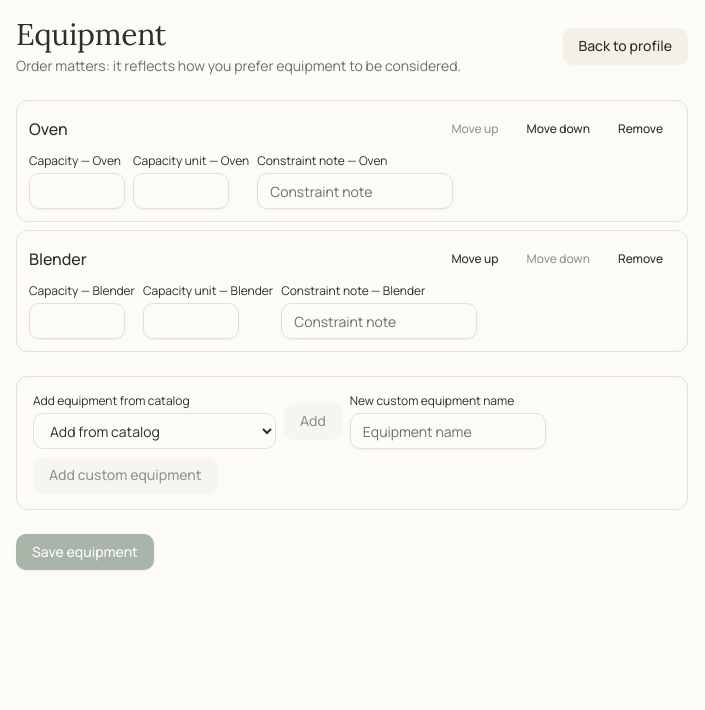
ProfileEquipmentPage › rejects a negative capacity locally and never submits it to the backend
Type "-5" into the number field with test id "profile-equipment-capacity-eq-oven" at (77, 191), box left=29, top=173, right=125, bottom=209
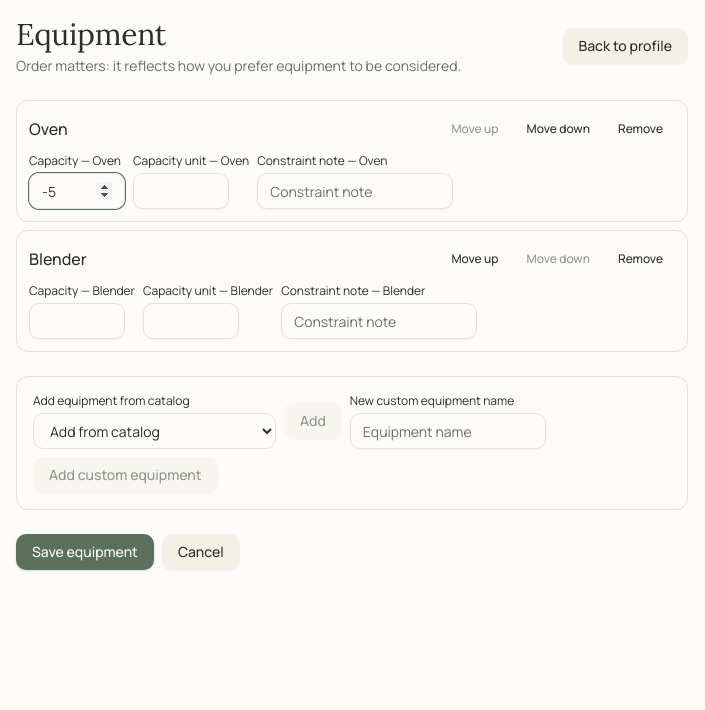
Type "L" into the field with test id "profile-equipment-capacity-unit-eq-oven" at (181, 191), box left=133, top=173, right=229, bottom=209
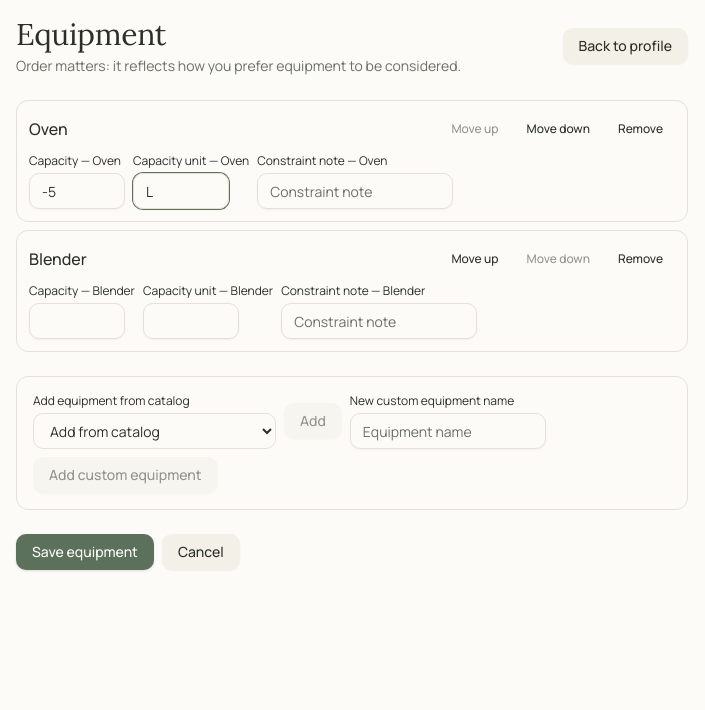
Click the button with test id "profile-equipment-save" at (85, 552), box left=16, top=534, right=154, bottom=570
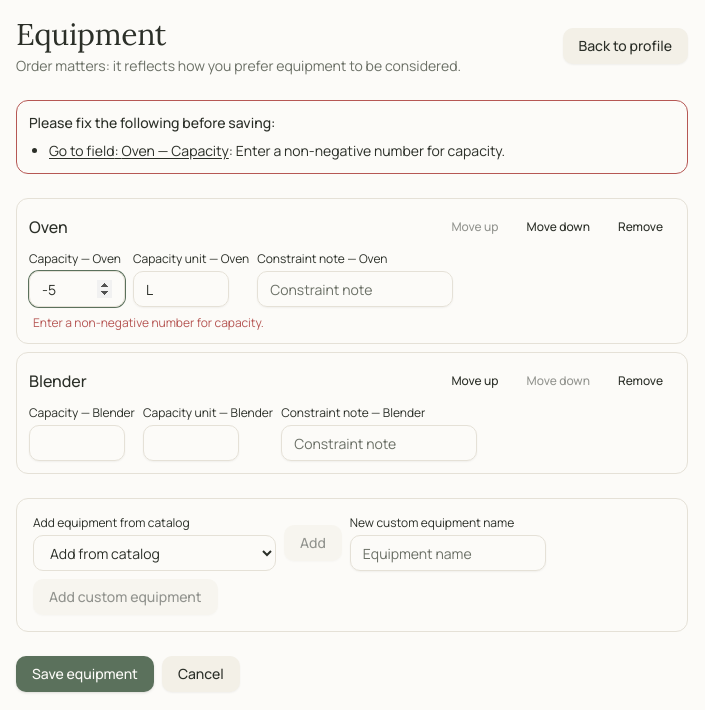
Check: the message "Enter a non-negative number for capacity." is shown, box left=33, top=314, right=264, bottom=331
